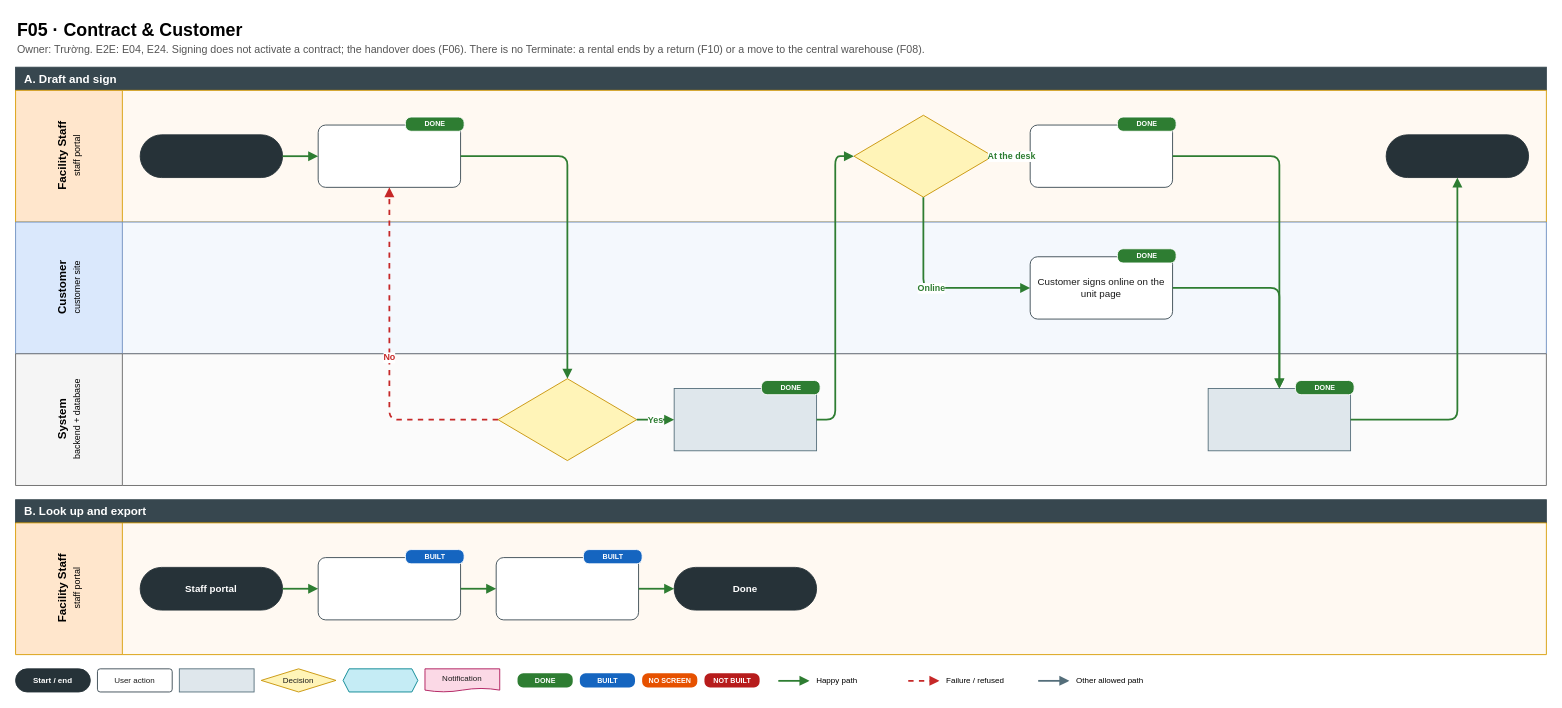
This 1562x708 diagram has some shape labels left out. Here are the shapes that lost their labels. From the top down, the centre of each, then its label:
At (x=211, y=156): "Confirmed booking with a unit".
At (x=389, y=155): "Draft the contract, choose the payment day (/admin/handover)".
At (x=923, y=155): "Where does the customer sign?".
At (x=1101, y=155): "Print, customer signs paper, record the signature".
At (x=1457, y=156): "Go to handover (F06)".
At (x=567, y=419): "Confirmed, and no live contract on the unit?".
At (x=745, y=419): "Contract → Draft at the quoted rent and deposit".
At (x=1279, y=419): "SignedAt set; contract stays Draft".
At (x=389, y=588): "Open a customer and their contacts from a contract (/admin/contracts)".
At (x=567, y=588): "Export contracts to CSV; spreadsheet formulas are neutralised".
At (x=216, y=680): "System action".
At (x=380, y=680): "Money movement".
